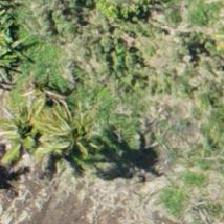coconut_tree: (43, 86, 133, 176), (0, 81, 76, 171)
